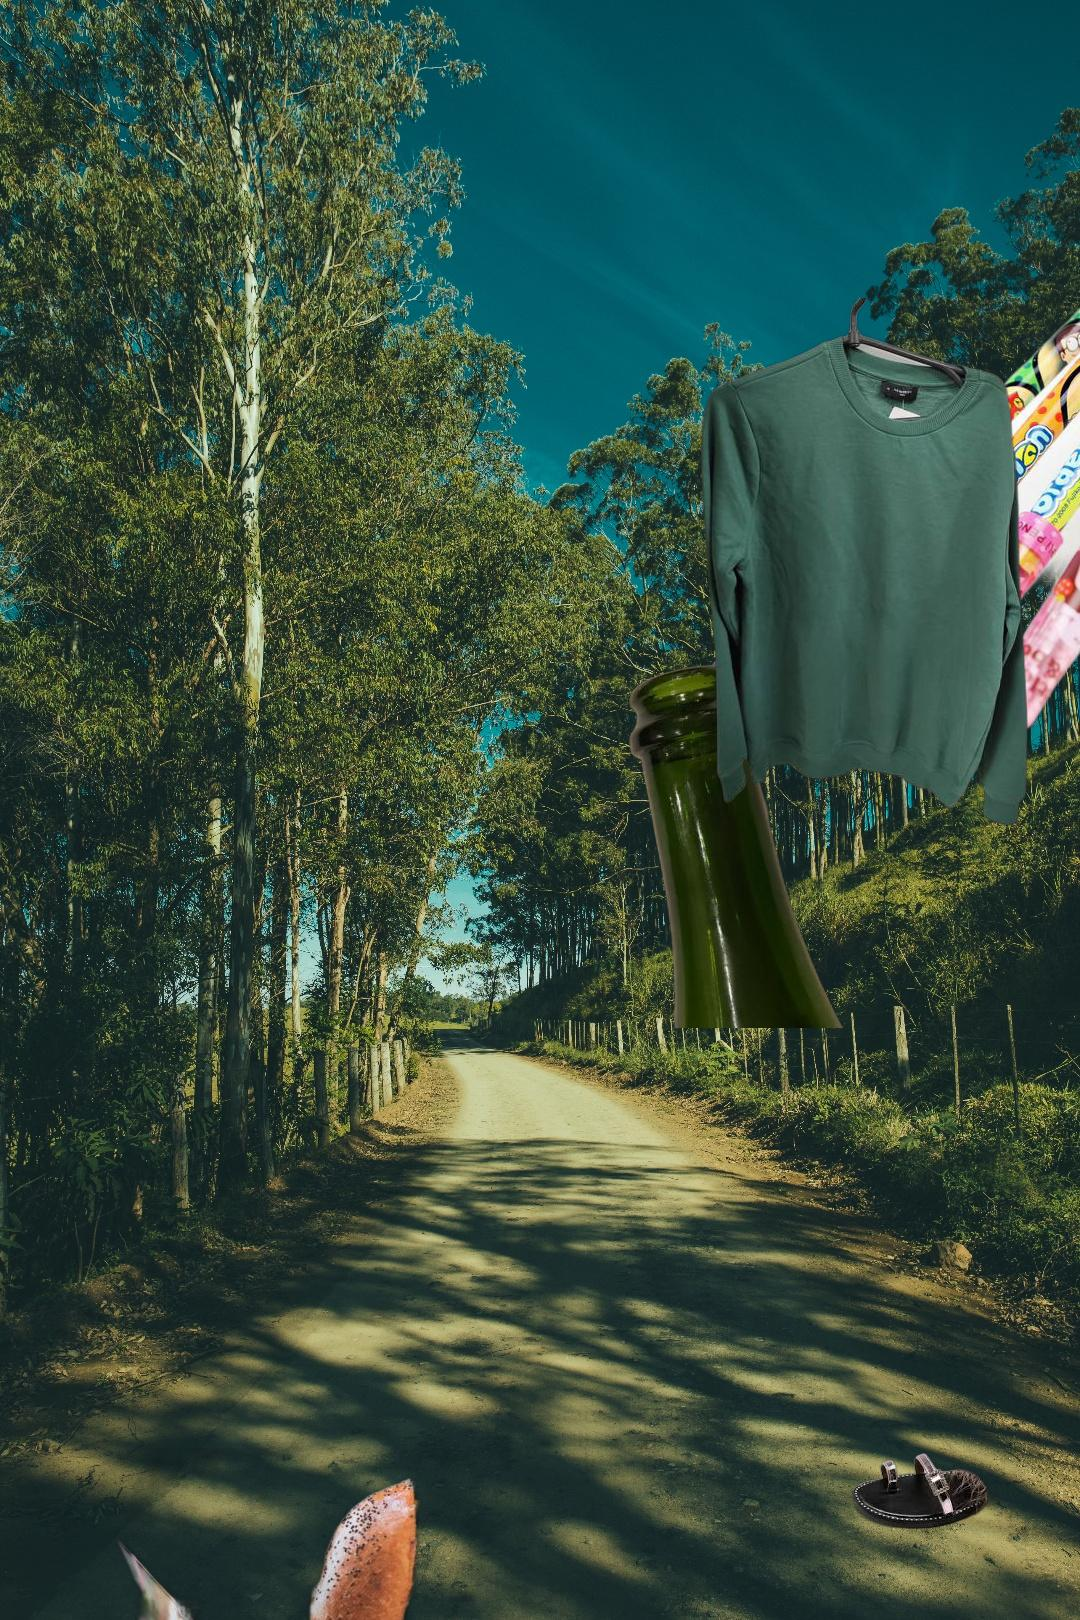clothes: (698, 298, 1031, 830)
glass: (624, 662, 849, 1028)
paper: (95, 1448, 522, 1620)
penholder: (670, 298, 1080, 749)
shoes: (850, 1422, 1068, 1531)
